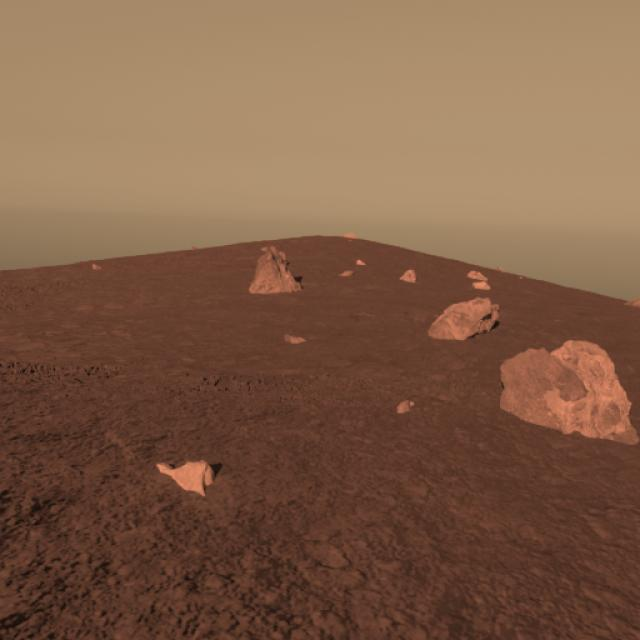rock: (497, 334, 640, 442), (429, 290, 497, 347), (245, 245, 296, 297)
